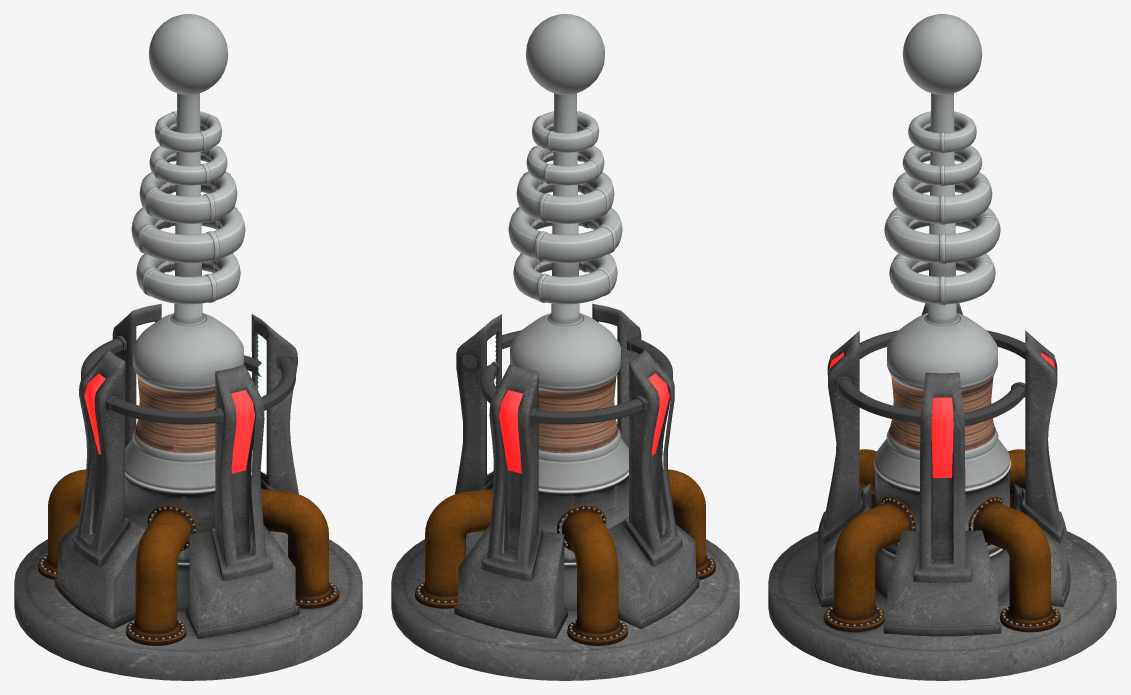
Rendered from tesla.glb.
3 renders of one model, left to right at view 1: azimuth 30°, elevation 25°; view 2: azimuth 150°, elevation 25°; view 3: azimuth 270°, elevation 25°, orthographic.
Parts seen in each view (by area): view 1: Tesla Coil (Old); view 2: Tesla Coil (Old); view 3: Tesla Coil (Old).
Boxes of the visible parts, box(x1,y1,x2,y2) form: Tesla Coil (Old): box(14, 14, 362, 680); Tesla Coil (Old): box(391, 14, 739, 680); Tesla Coil (Old): box(768, 14, 1116, 680).
Bounding box in the file's own units: 5.09 × 9.51 × 5.09.
Materials: 6 (1 with a texture image).
